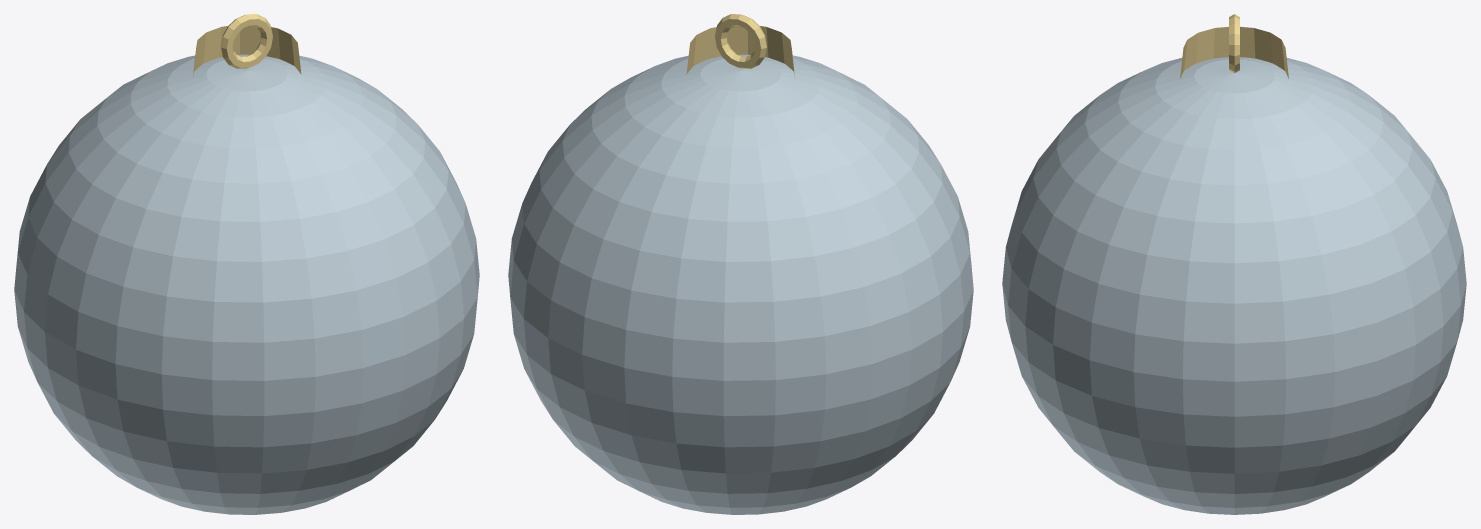
The model's file is bauble-ice-2in.glb.
The picture shows the model from 3 angles, left to right: view 1: azimuth 30°, elevation 25°; view 2: azimuth 150°, elevation 25°; view 3: azimuth 270°, elevation 25°; orthographic projection.
Parts seen in each view (by area): view 1: bauble; view 2: bauble; view 3: bauble.
Boxes of the visible parts, x1,y1,x2,y2 form: bauble: (14,14,479,514); bauble: (508,14,973,514); bauble: (1002,14,1466,514).
Bounding box in the file's own units: 0.0448 × 0.0508 × 0.0448.
